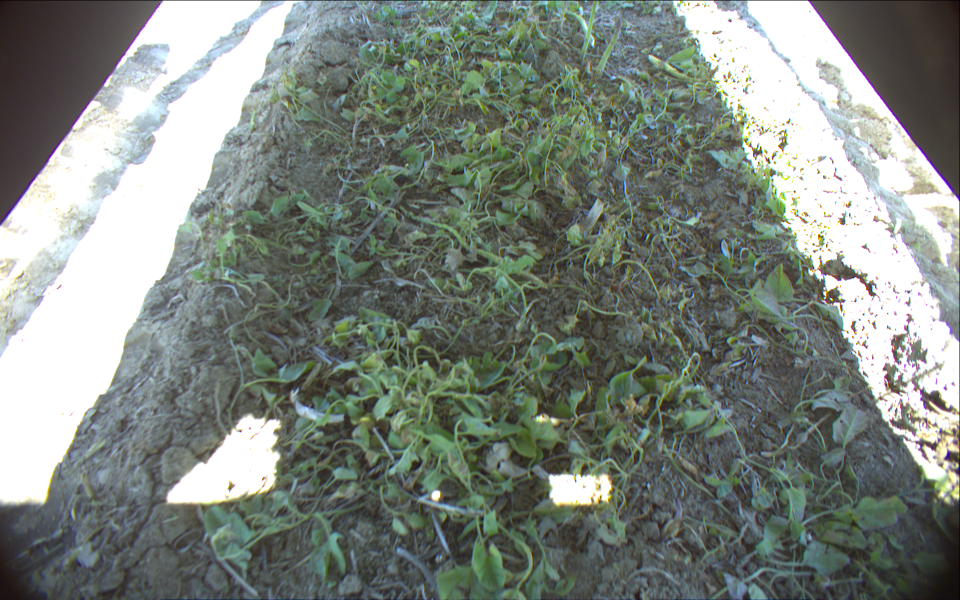aspa: (590, 17, 629, 80), (576, 1, 600, 65)
